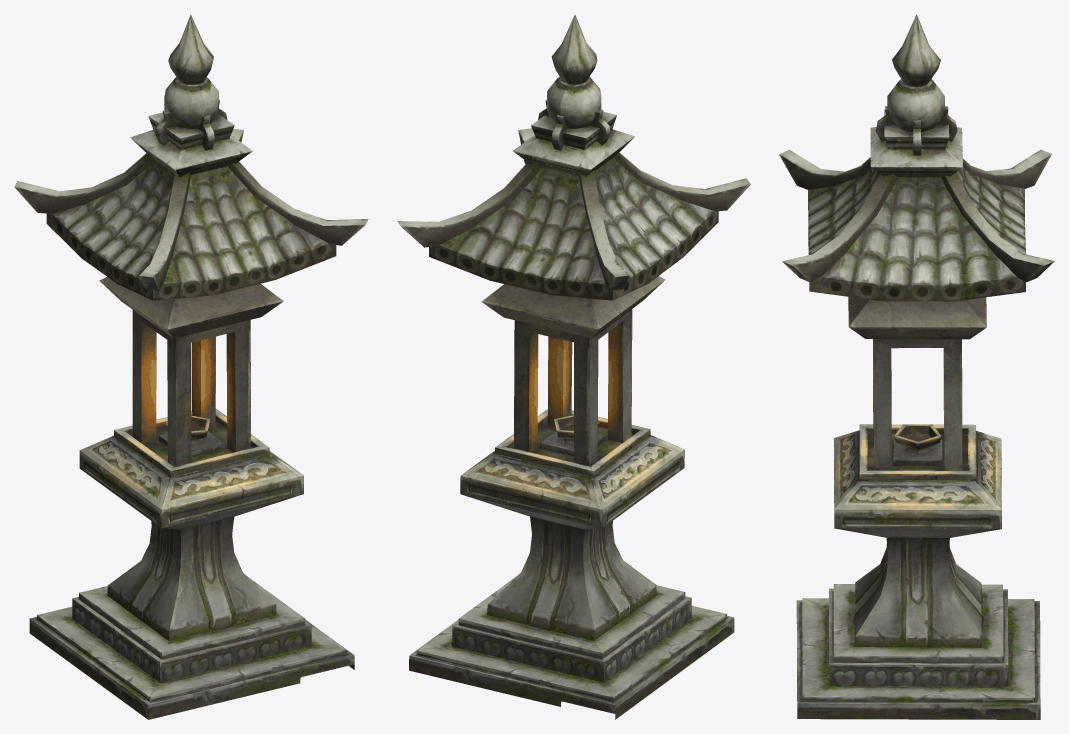
The picture shows the model from 3 angles, left to right: view 1: azimuth 30°, elevation 25°; view 2: azimuth 150°, elevation 25°; view 3: azimuth 270°, elevation 25°; orthographic projection. The views are drawn at different scales.
Visible parts, largest first — view 1: jd_ta_1; view 2: jd_ta_1; view 3: jd_ta_1.
Part boxes in pixels (box(x1,y1,x2,y2)): jd_ta_1: box(14, 14, 368, 719); jd_ta_1: box(397, 14, 750, 719); jd_ta_1: box(779, 14, 1054, 719).
Size of the model in its own units: 104 by 272 by 104.
